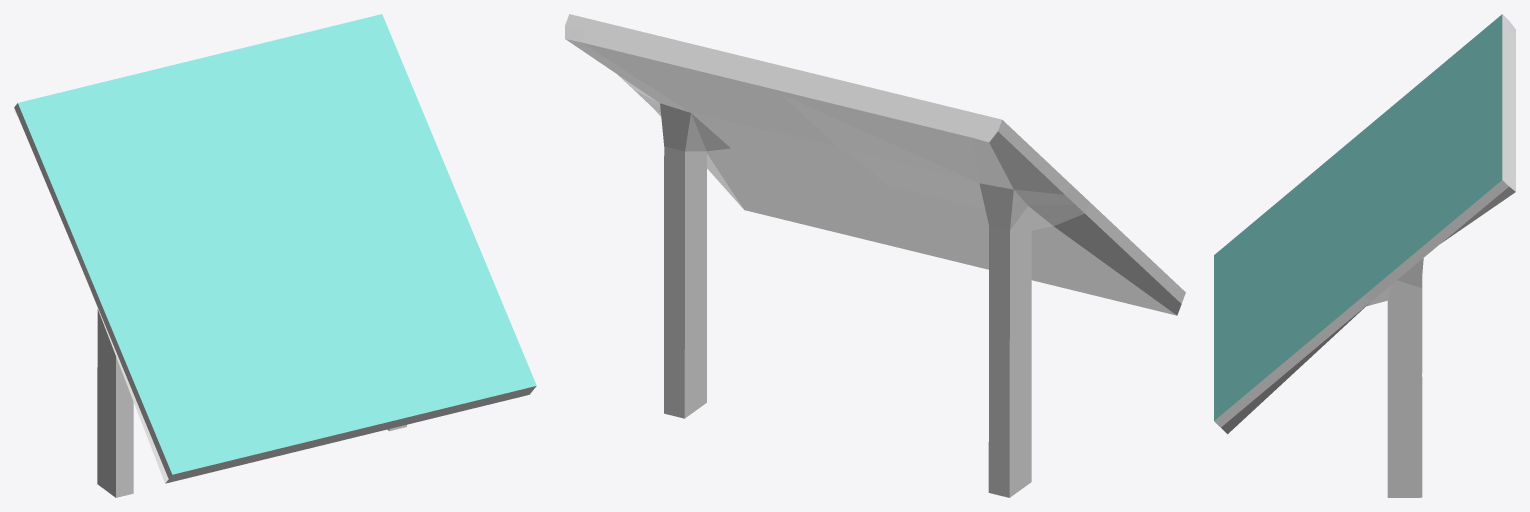
Rendered from SM_SolarPanel.fbx.
3 renders of one model, left to right at view 1: azimuth 30°, elevation 25°; view 2: azimuth 150°, elevation 25°; view 3: azimuth 270°, elevation 25°, orthographic. The views are drawn at different scales.
Parts seen in each view (by area): view 1: Cube; view 2: Cube; view 3: Cube.
Part boxes in pixels (x1,y1,x2,y2): Cube: (14,14,536,497); Cube: (565,14,1185,497); Cube: (1214,14,1515,497).
Size of the model in its own units: 200 by 188 by 154.
